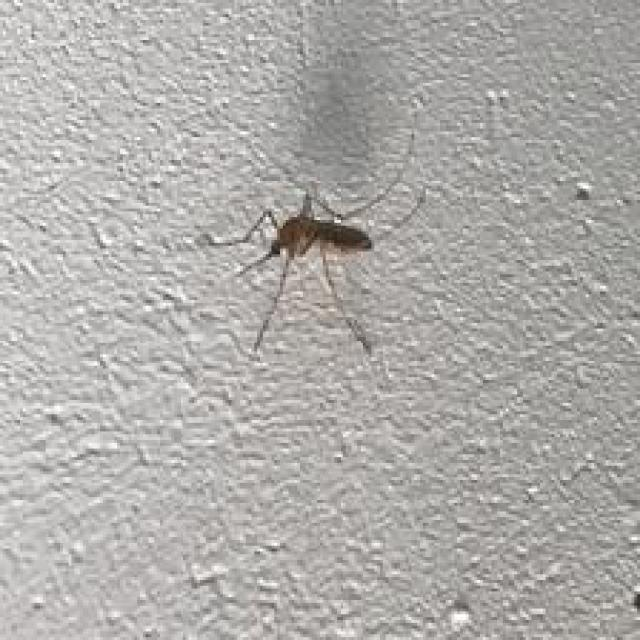Culex: (199, 131, 427, 366)
